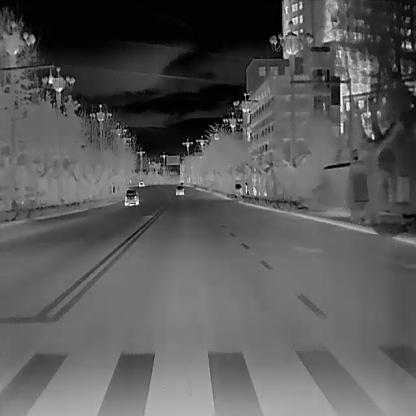car: (124, 188, 139, 206), (174, 181, 184, 195)
